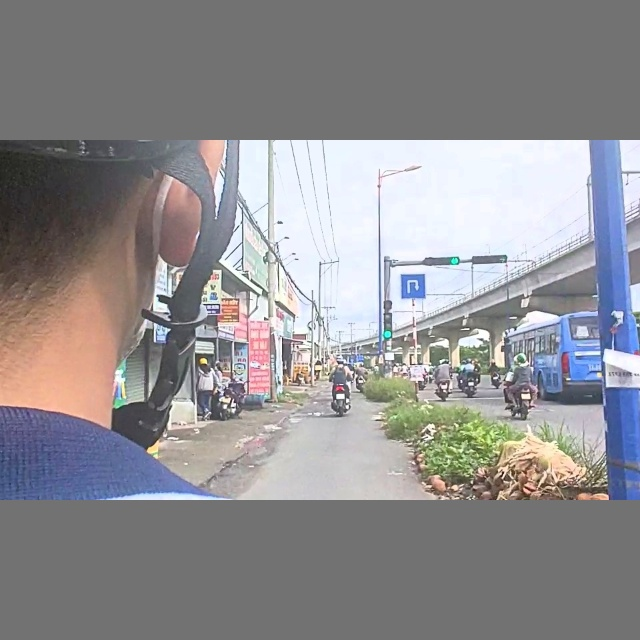I.409: (399, 273, 427, 300)
